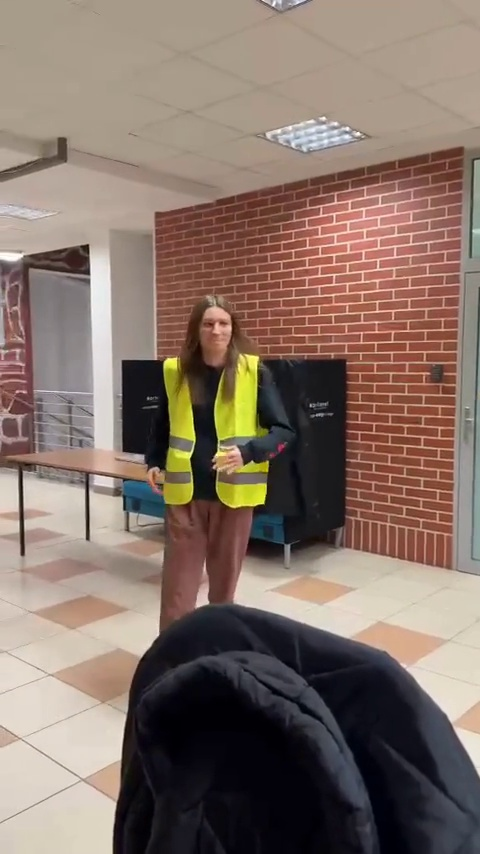vest: (146, 302, 295, 621)
